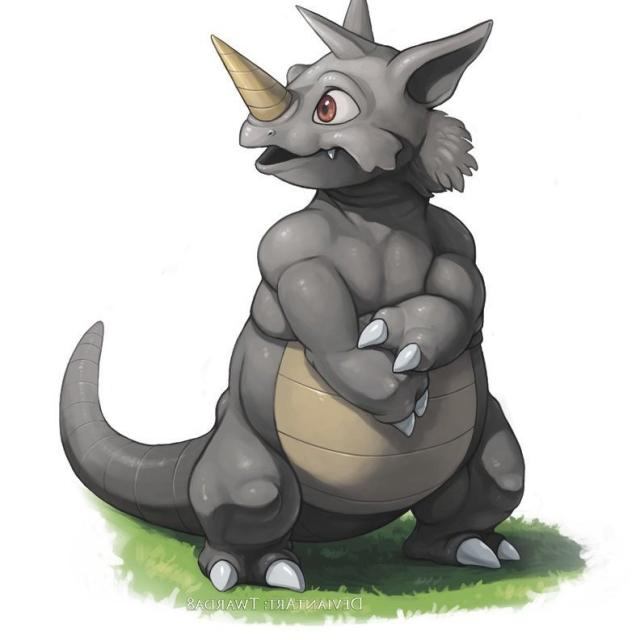Rhydon: (50, 0, 540, 595)
